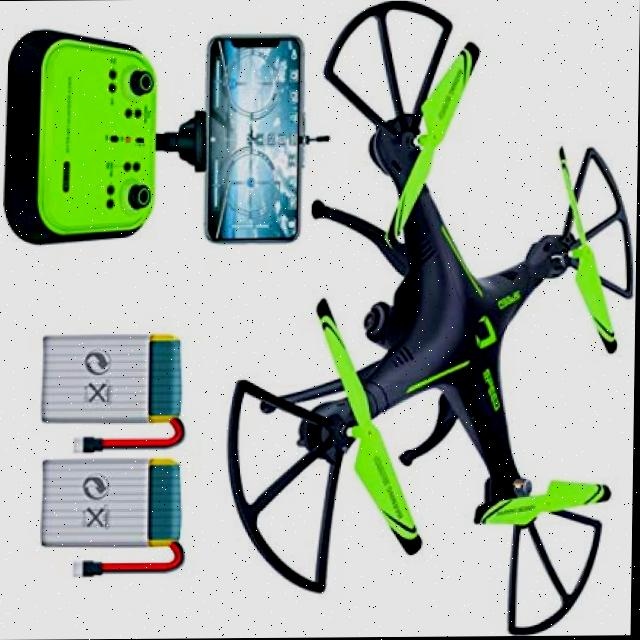drone: (216, 13, 626, 638)
